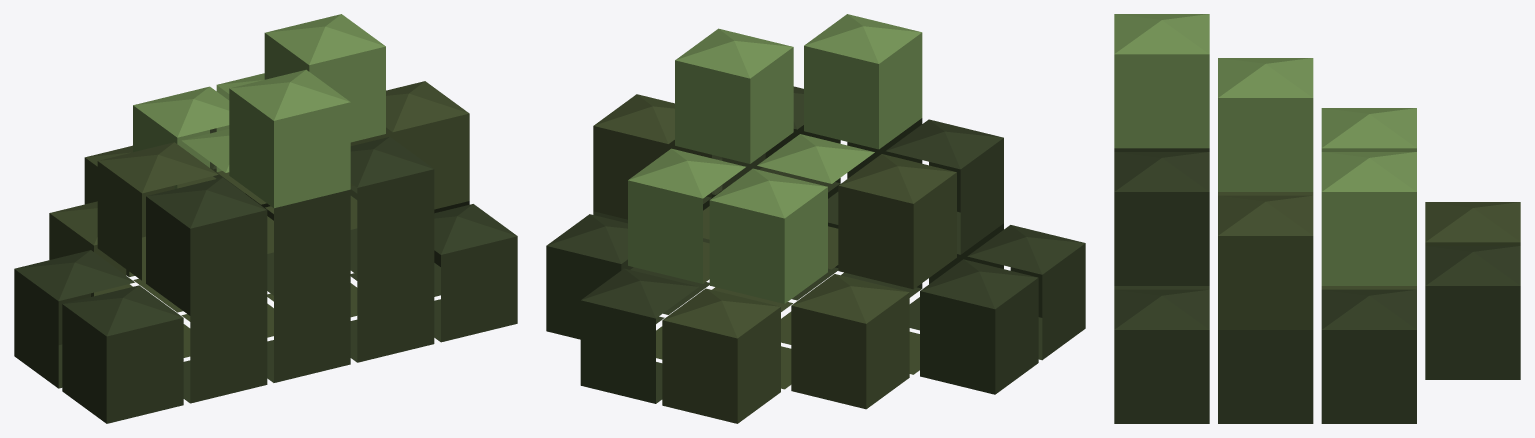
File: moss_rock_shelf.glb
3 views of the same model, side by side, from view 1: azimuth 30°, elevation 25°; view 2: azimuth 150°, elevation 25°; view 3: azimuth 270°, elevation 25° (orthographic). The views are drawn at different scales.
Visible parts, largest first — view 1: moss_rock_shelf; view 2: moss_rock_shelf; view 3: moss_rock_shelf.
Boxes of the visible parts, x1,y1,x2,y2 form: moss_rock_shelf: (14, 14, 517, 423); moss_rock_shelf: (546, 14, 1085, 423); moss_rock_shelf: (1114, 14, 1520, 423).
Bounding box in the file's own units: 0.492 × 0.315 × 0.392.
1 material, 1 textured.
